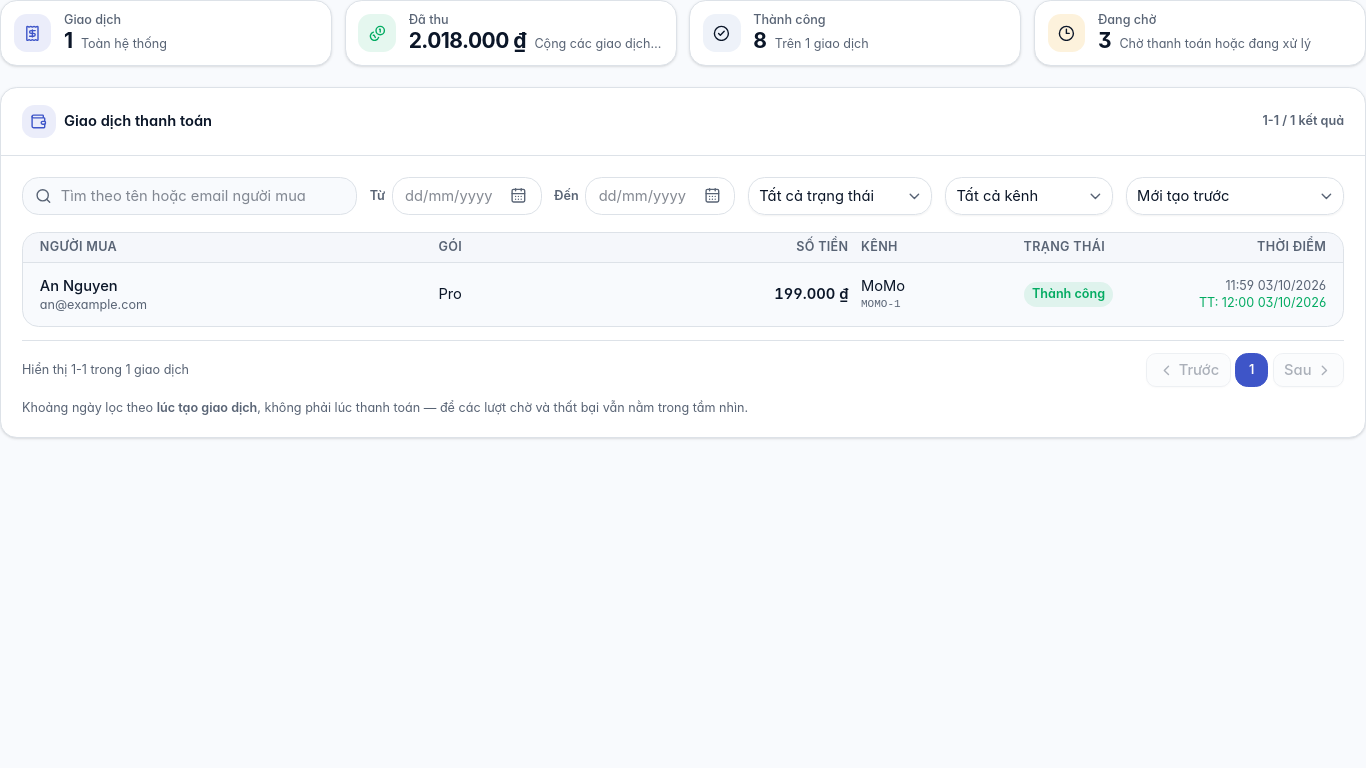
Test case: <AdminPaymentTransactionsPage /> — thanh bộ lọc một hàng › 'Từ ngày' không cho chọn ngày sau 'Đến ngày'
In the field named "Đến ngày": (660, 196) [585,177,735,215], type "10/10/2026"
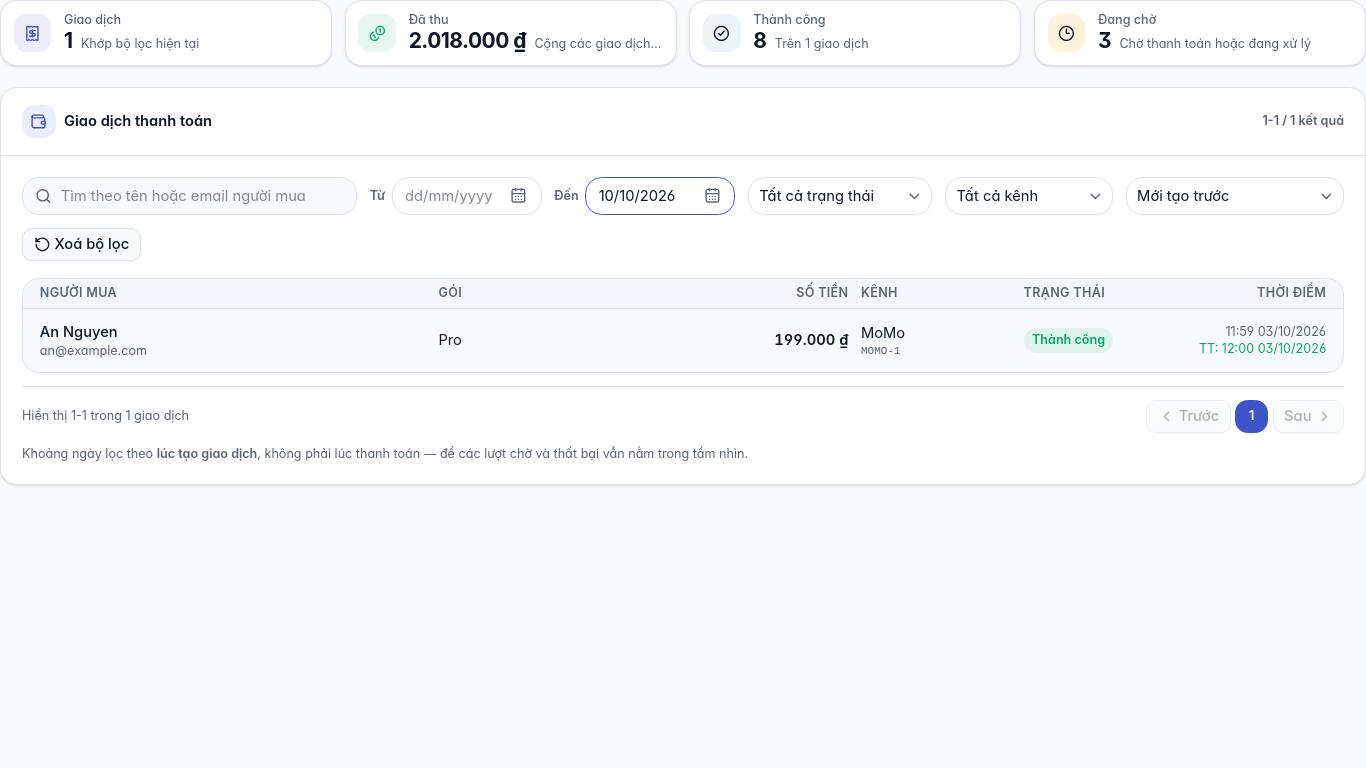
Click the button named "Mở lịch: Từ ngày": (518, 196) [504,181,533,211]
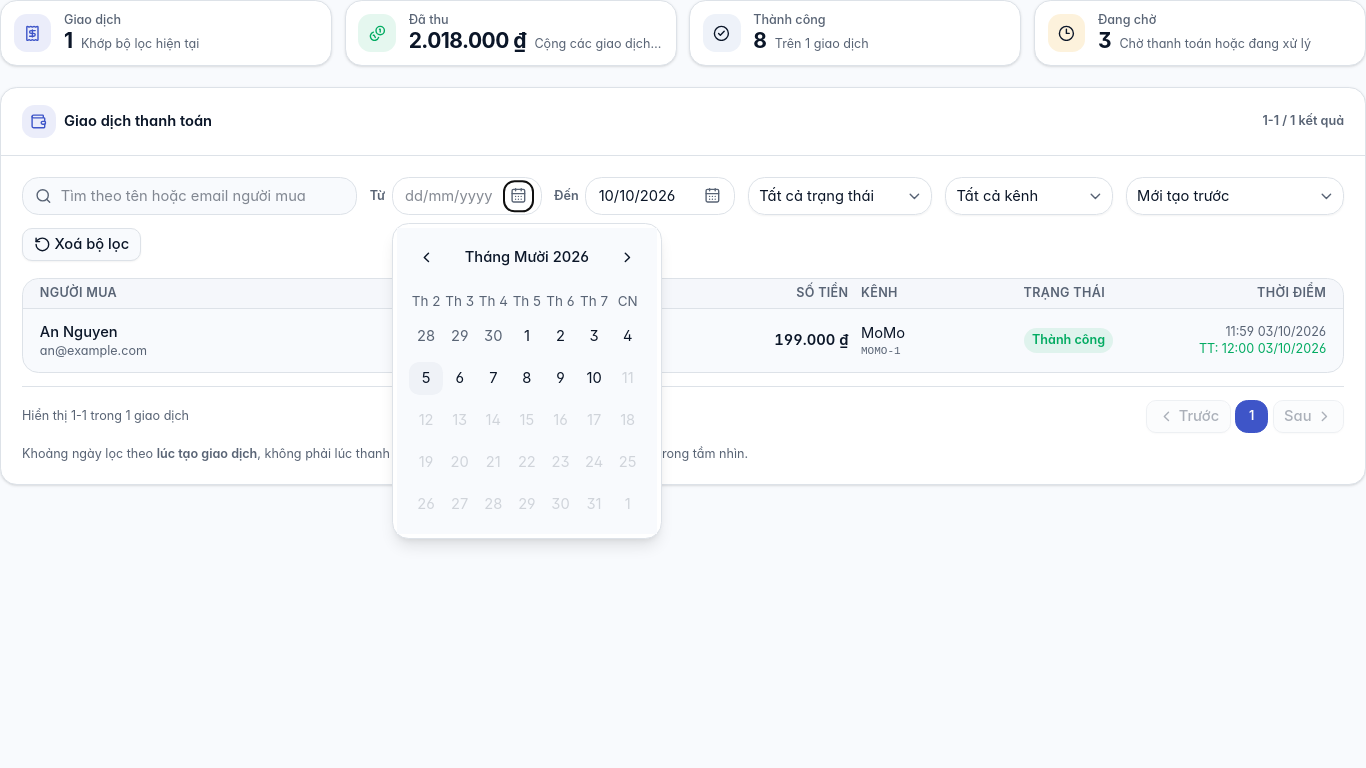
Result: the button "15" is disabled at [510,404,544,437]
